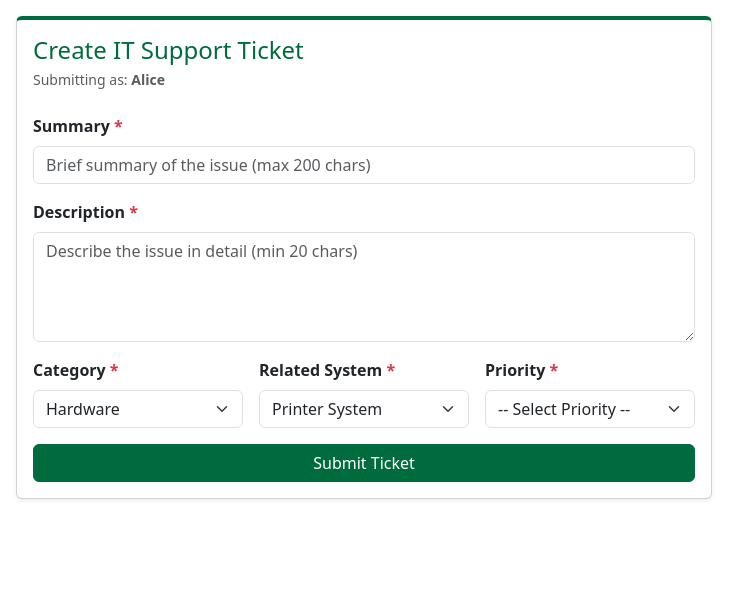
Scenario: CreateTicket Component › should show validation errors on empty form submission
The width and height of the screenshot is (729, 593).
Expected: the dropdown with test id "select-category" is enabled, [33,390,243,428]
Clear selections to force errors
Select "-- Select Priority --" in the dropdown with test id "select-priority". click: (590,409)
box: [485,390,695,428]
Click the button with test id "submit-btn". click: (364,463)
box: [33,444,695,482]
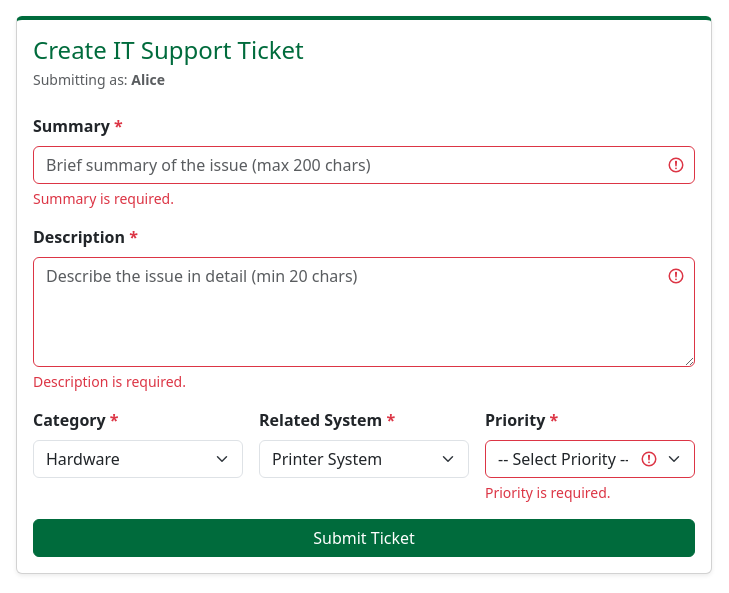
Now the text "Summary is required." is shown, box [33,189,174,208]
Now the text "Description is required." is shown, box [33,372,186,391]
Now the text "Priority is required." is shown, box [485,483,611,502]
